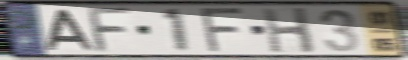1: (160, 7, 195, 53)
3: (319, 8, 359, 53)
A: (44, 8, 98, 52)
F: (200, 6, 248, 54), (87, 6, 135, 54)
H: (260, 6, 318, 55)
